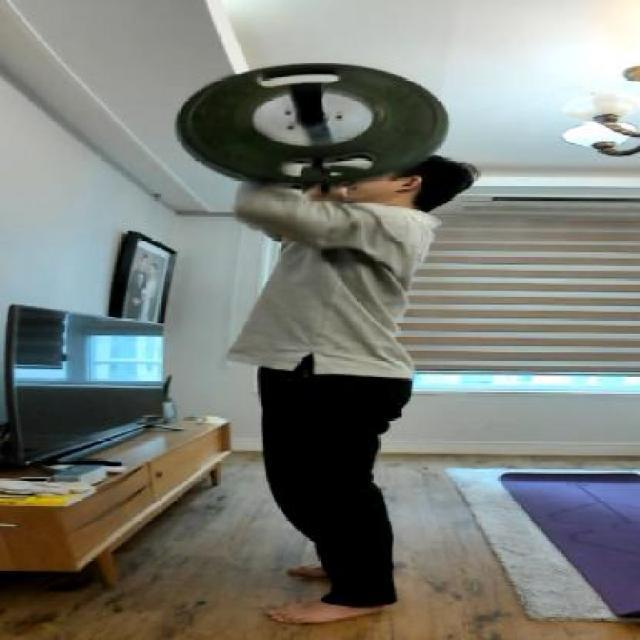Barbell: (290, 80, 328, 103)
